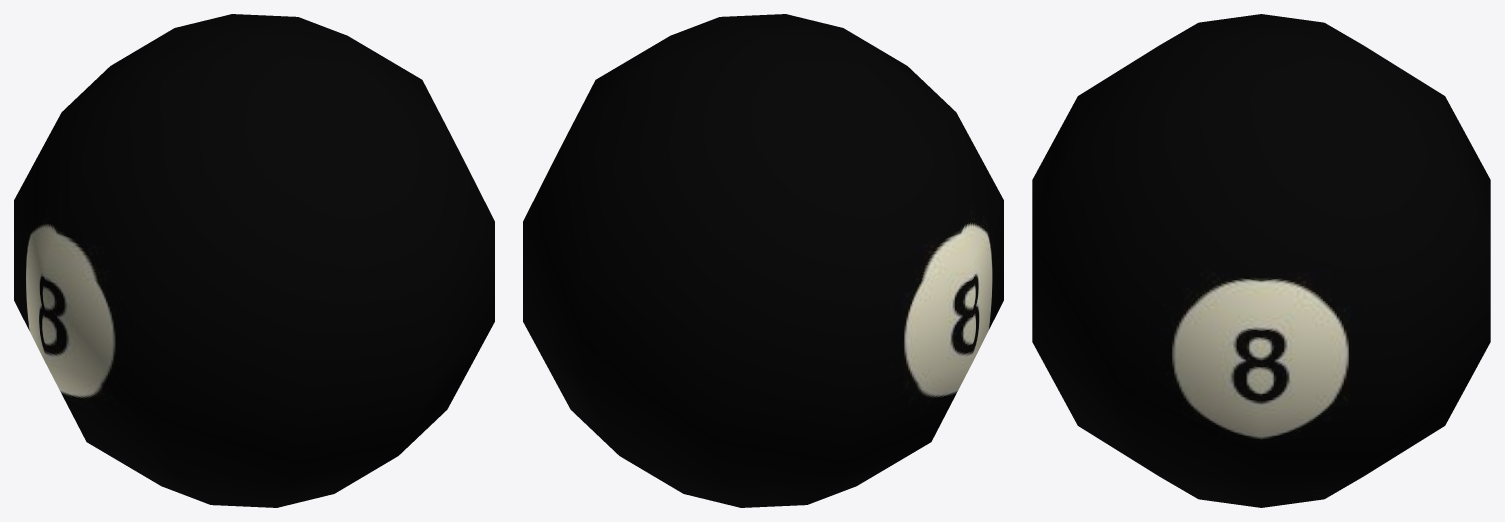
Rendered from boule_noire.dae.
3 renders of one model, left to right at view 1: azimuth 30°, elevation 25°; view 2: azimuth 150°, elevation 25°; view 3: azimuth 270°, elevation 25°, orthographic.
Parts seen in each view (by area): view 1: boule_noire; view 2: boule_noire; view 3: boule_noire.
Boxes of the visible parts, x1=… form: boule_noire: x1=14, y1=14, x2=494, y2=507; boule_noire: x1=523, y1=14, x2=1003, y2=507; boule_noire: x1=1032, y1=14, x2=1490, y2=507.
Bounding box in the file's own units: 0.9749 × 0.9272 × 1.
